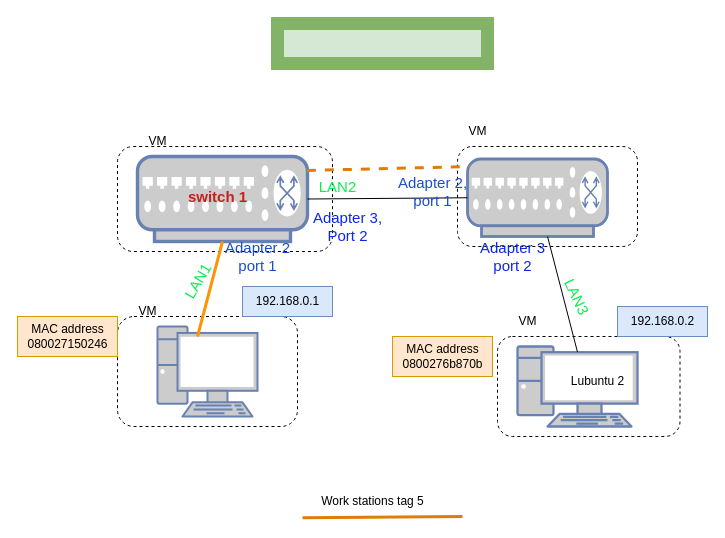
Some shapes in this 725 by 538 pixel diagram are drawn without their labels. The centre of each missing label's shape, as x and y in pixels:
"E04 Topology Drawing" goes at [382,43].
"Lubuntu 1" goes at [207,371].
"switch 2" goes at [537,197].
